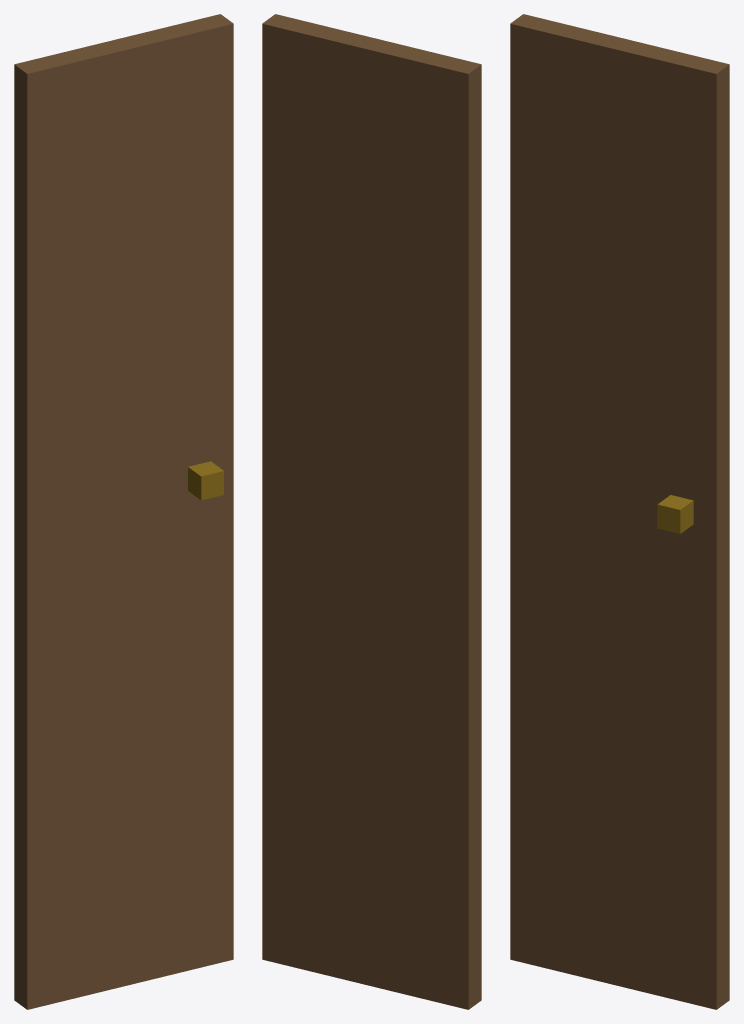
Rendered from Wardrobe00-Door0.gltf.
The picture shows the model from 3 angles, left to right: view 1: azimuth 30°, elevation 25°; view 2: azimuth 150°, elevation 25°; view 3: azimuth 330°, elevation 25°; orthographic projection.
Visible parts, largest first — view 1: Door; view 2: Door; view 3: Door.
Part boxes in pixels (box(x1,y1,x2,y2)): Door: box(14, 14, 233, 1009); Door: box(262, 14, 481, 1009); Door: box(510, 14, 729, 1009).
Bounding box in the file's own units: 9 × 39 × 2.
